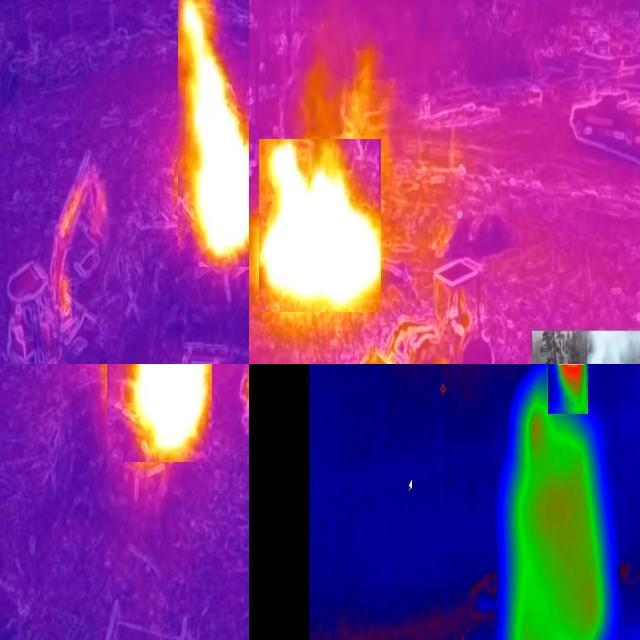fire: (260, 140, 382, 313), (179, 1, 250, 268), (108, 365, 213, 463), (549, 365, 589, 415)
